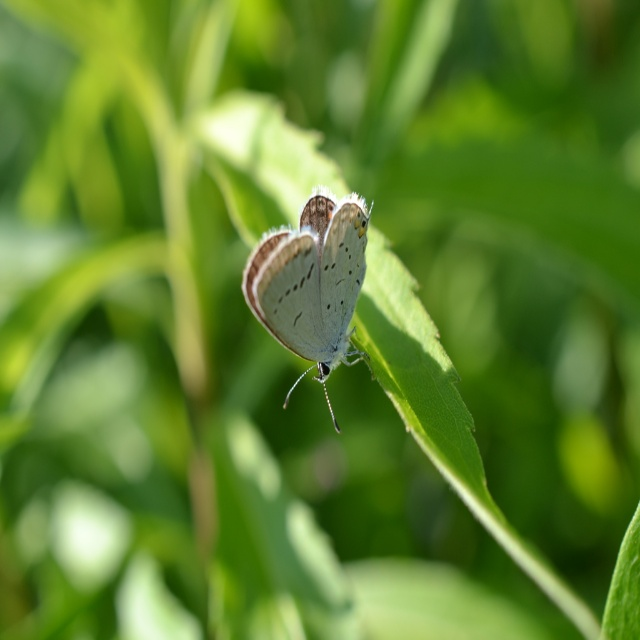Butterfly: (240, 179, 387, 435)
